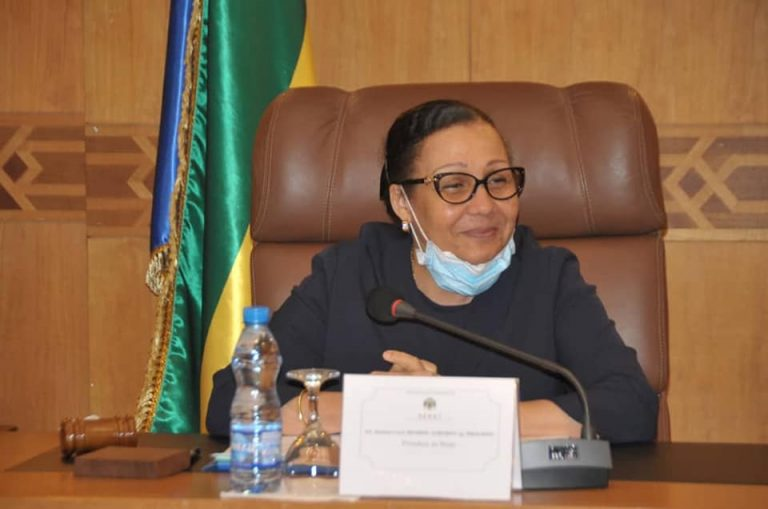with_incorrect_mask: (390, 115, 519, 293)
